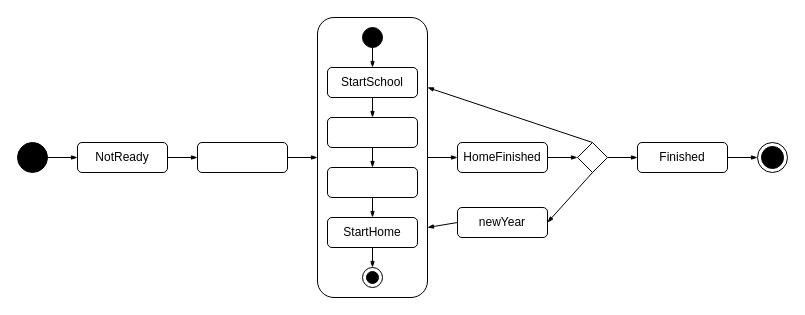
The diagram is 805 pixels wide and 315 high, and some of its shapes have lost their labels. Here are the shapes that lost their labels. From the top down, the centre of each, then its label:
At point (372, 132): "SchoolStarted".
At point (242, 157): "Ready".
At point (372, 182): "SchoolFinished".
